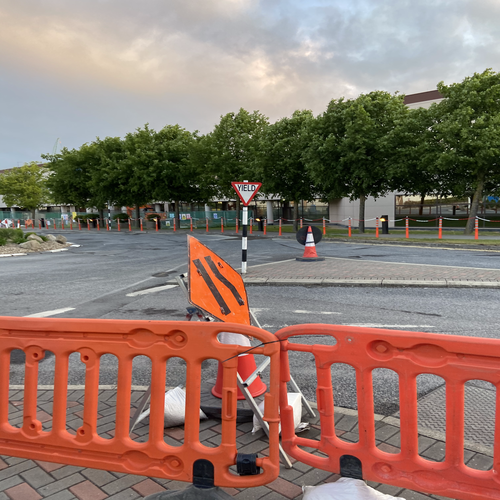Narrow Road: (179, 233, 254, 320)
Yield: (232, 182, 264, 204)
